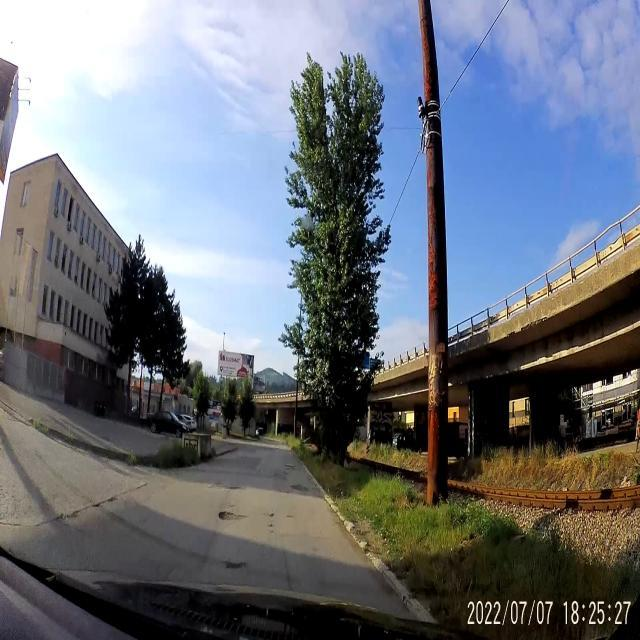Pothole: (214, 505, 249, 528), (286, 481, 314, 498), (212, 480, 244, 494), (266, 510, 278, 540), (224, 560, 247, 570), (283, 462, 296, 472), (286, 511, 294, 520)
